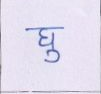u_matra: (44, 50, 62, 64)
